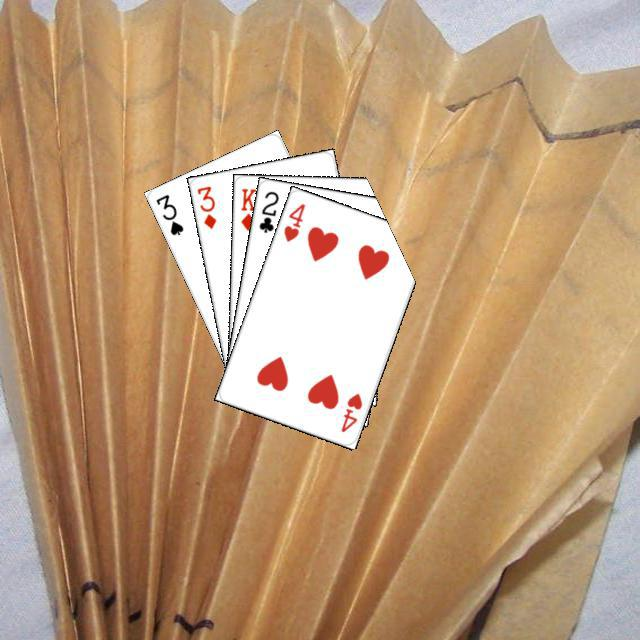2c: (254, 186, 280, 234)
3d: (192, 181, 218, 230)
3s: (151, 189, 185, 237)
4h: (336, 388, 364, 434), (279, 199, 307, 244)
Kd: (236, 184, 258, 232)
